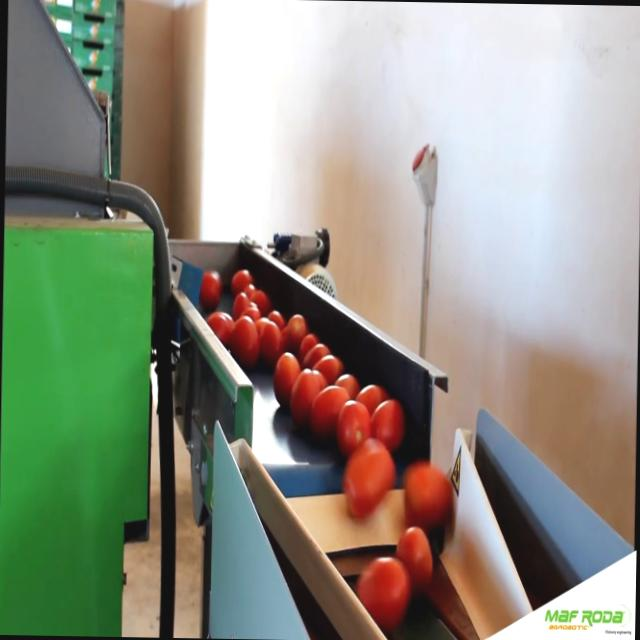Tomato: (355, 552, 410, 627), (342, 446, 393, 516), (406, 463, 456, 524), (394, 526, 436, 587), (308, 388, 356, 440), (288, 370, 324, 422), (340, 398, 372, 449), (270, 350, 298, 400), (371, 400, 404, 441), (230, 316, 258, 363), (357, 378, 386, 412), (196, 265, 222, 302), (205, 311, 233, 343), (287, 310, 309, 342), (232, 262, 254, 290), (259, 320, 278, 352), (318, 354, 342, 378), (337, 371, 355, 398), (304, 342, 328, 362), (232, 290, 248, 316), (252, 290, 266, 310), (268, 312, 282, 324)
